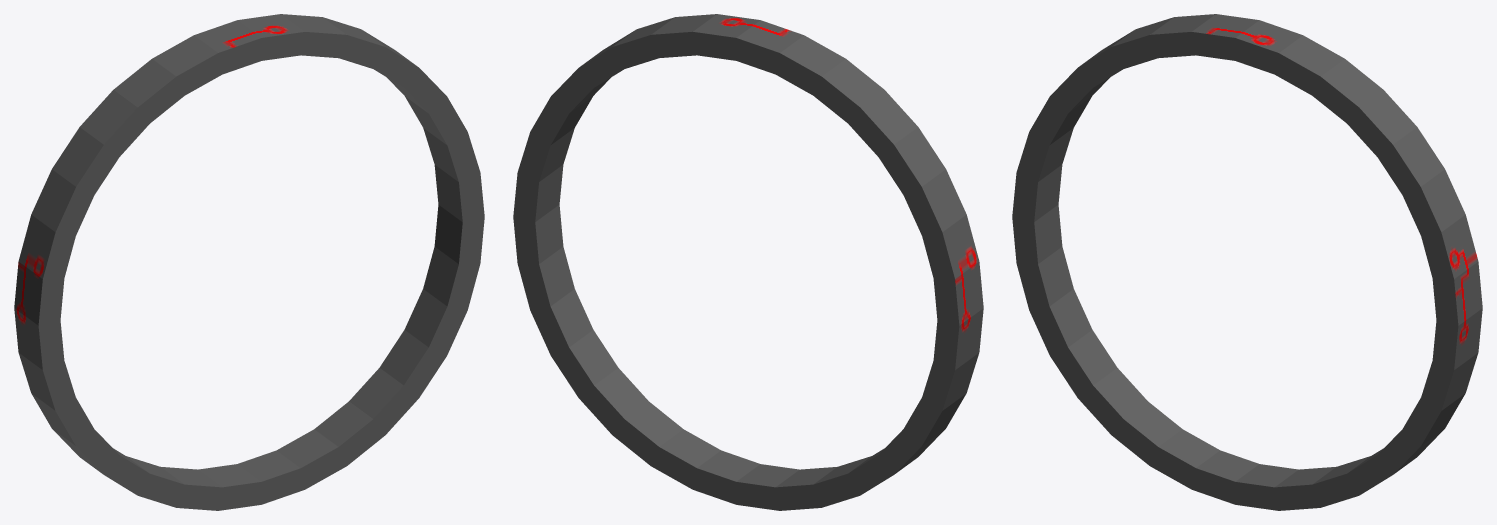
The model's file is checkpoint.fbx.
3 views of the same model, side by side, from view 1: azimuth 30°, elevation 25°; view 2: azimuth 150°, elevation 25°; view 3: azimuth 330°, elevation 25° (orthographic).
Visible parts, largest first — view 1: Circle; view 2: Circle; view 3: Circle.
Boxes of the visible parts, bbox=[...] form: Circle: bbox=[14, 14, 484, 510]; Circle: bbox=[513, 14, 983, 510]; Circle: bbox=[1012, 14, 1482, 510].
Bounding box in the file's own units: 2232 × 2232 × 212.
1 material, 1 textured.
